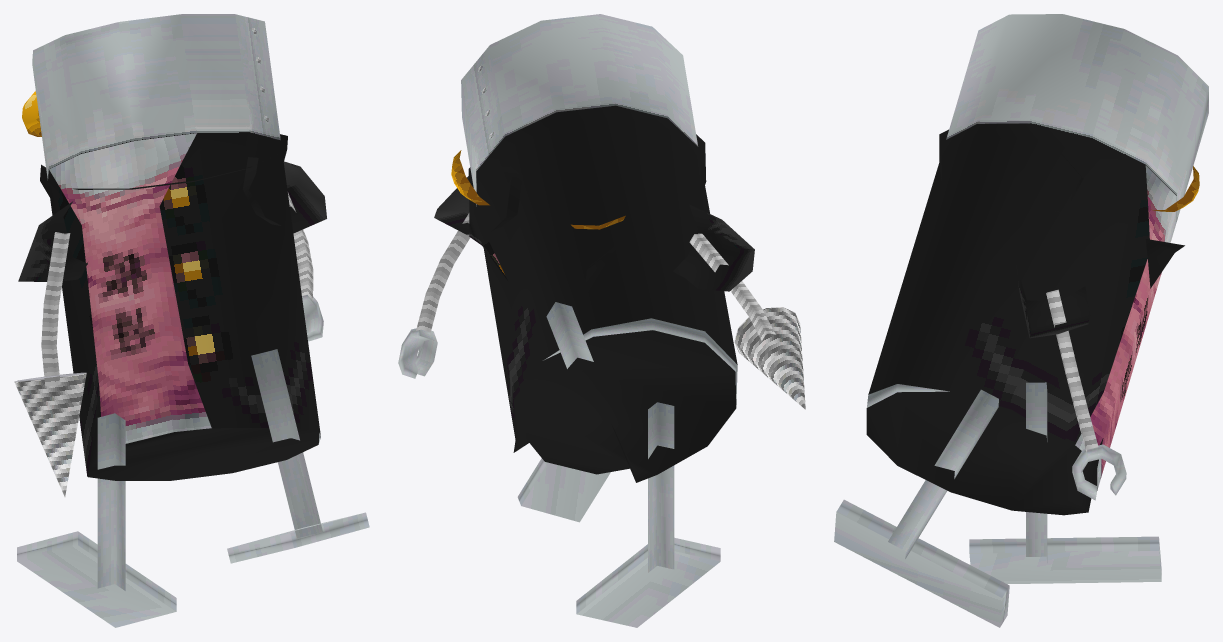
File: ps2_save-icons_cromartie.glb
3 renders of one model, left to right at view 1: azimuth 30°, elevation 25°; view 2: azimuth 150°, elevation 25°; view 3: azimuth 270°, elevation 25°, orthographic. The views are drawn at different scales.
Parts seen in each view (by area): view 1: meka.ico; view 2: meka.ico; view 3: meka.ico.
Part boxes in pixels (<box>): meka.ico: <box>14,14,369,627</box>; meka.ico: <box>398,14,805,627</box>; meka.ico: <box>834,14,1208,627</box>.
Bounding box in the file's own units: 3.1 × 4.63 × 2.83.
Materials: 1 (1 with a texture image).
